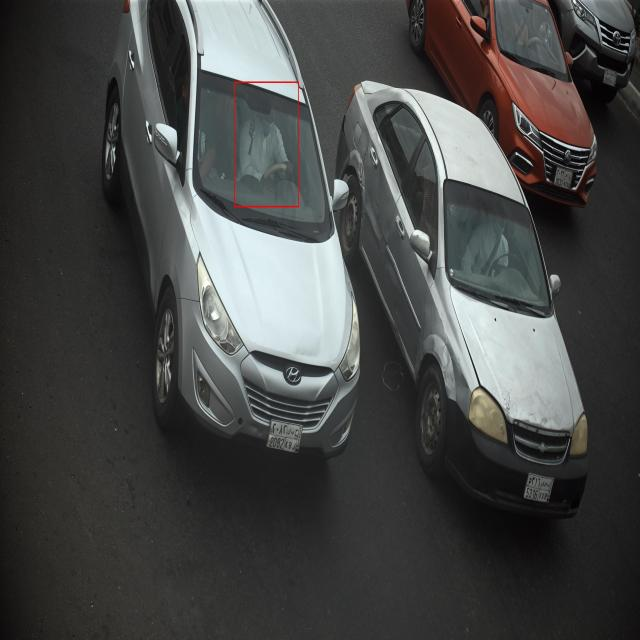windshield: (188, 57, 336, 243), (438, 171, 558, 324), (488, 0, 573, 79)
